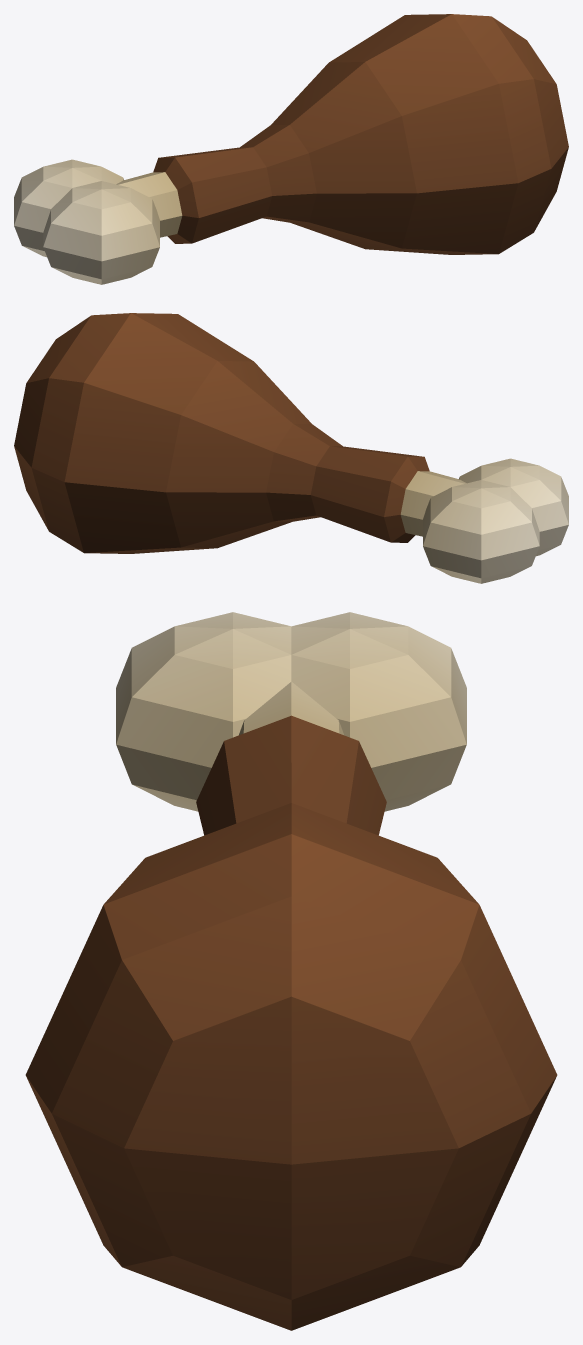
File: meat_2.fbx
3 renders of one model, top to bottom at view 1: azimuth 30°, elevation 25°; view 2: azimuth 150°, elevation 25°; view 3: azimuth 270°, elevation 25°, orthographic. The views are drawn at different scales.
Visible parts, largest first — view 1: meat_2; view 2: meat_2; view 3: meat_2.
Part boxes in pixels (left/top/right/bottom): meat_2: left=14, top=14, right=568, bottom=284; meat_2: left=14, top=313, right=568, bottom=583; meat_2: left=25, top=612, right=557, bottom=1330.
Bounding box in the file's own units: 0.2341 × 0.1047 × 0.1047.
